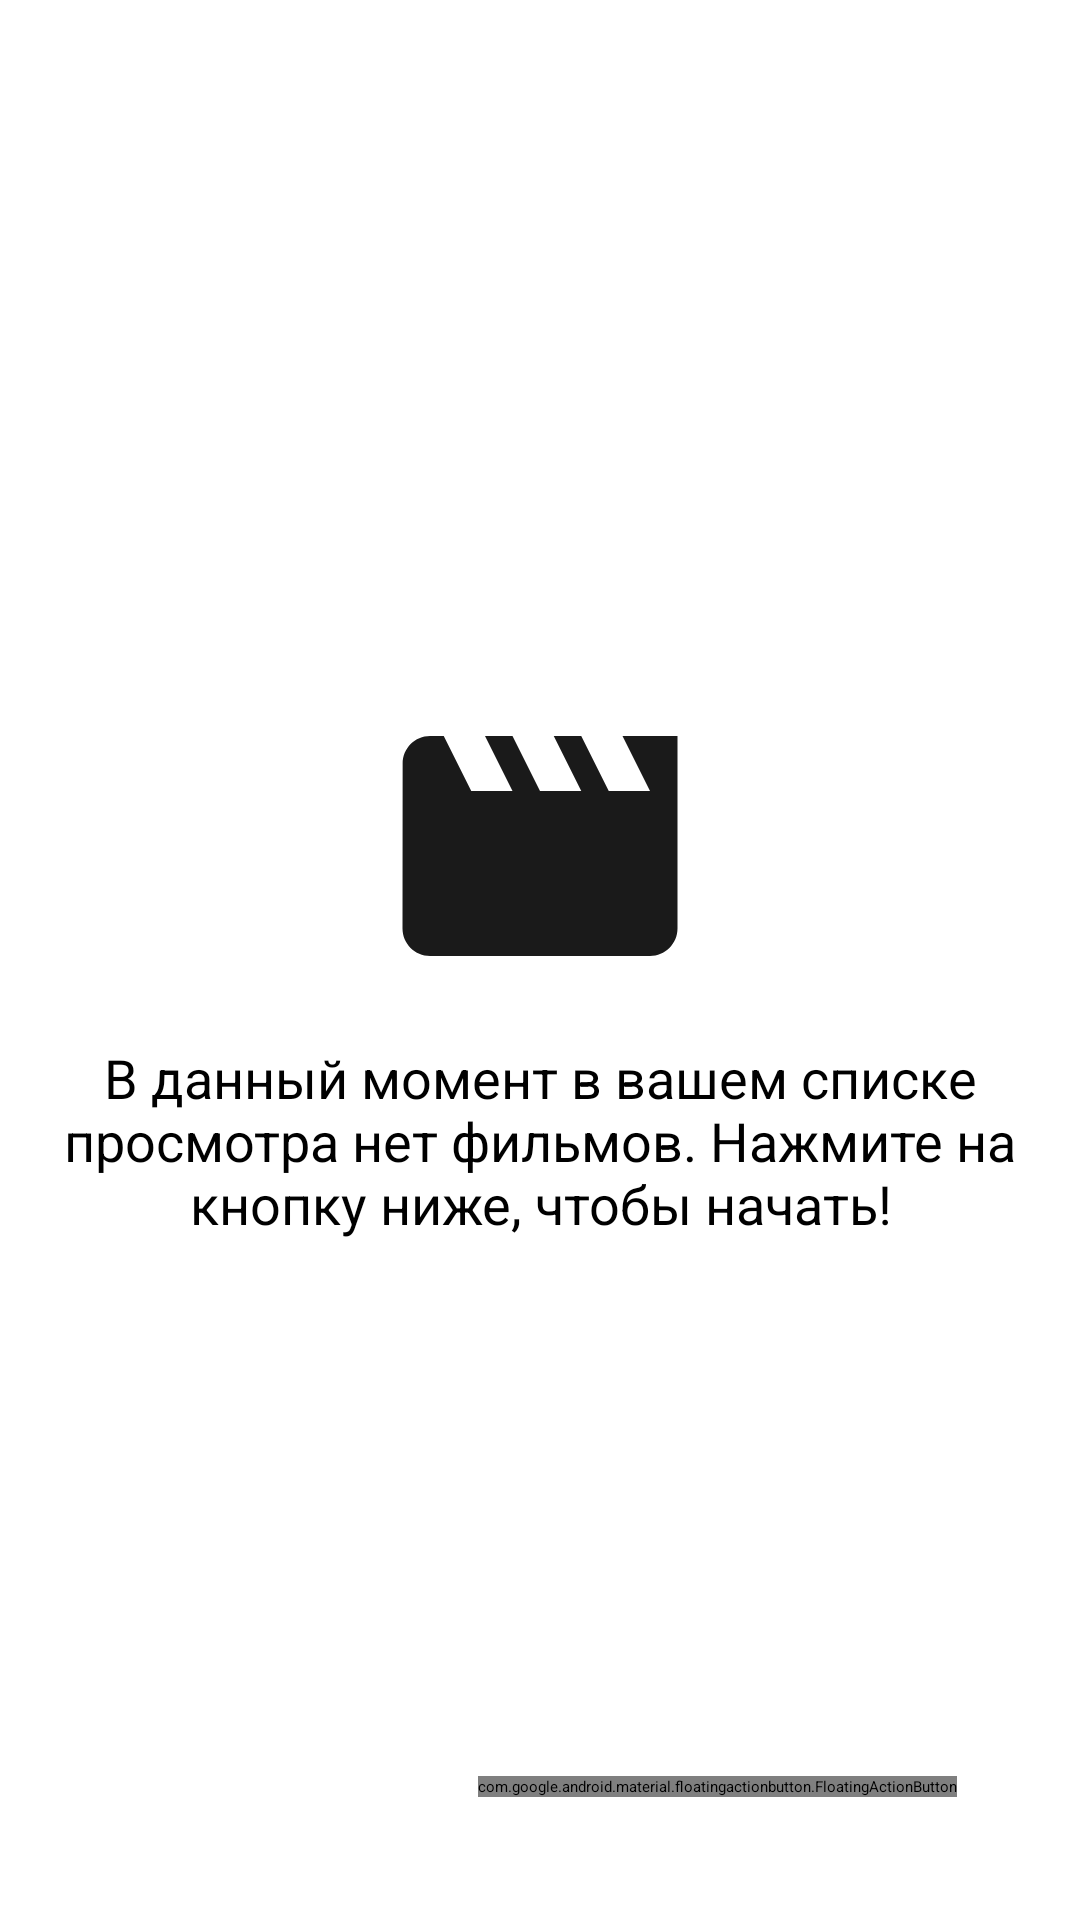

Icons on this 1080px x 1920px Android screen, each with the point to tap as (x=x, y=y):
movie: (x=540, y=846)
